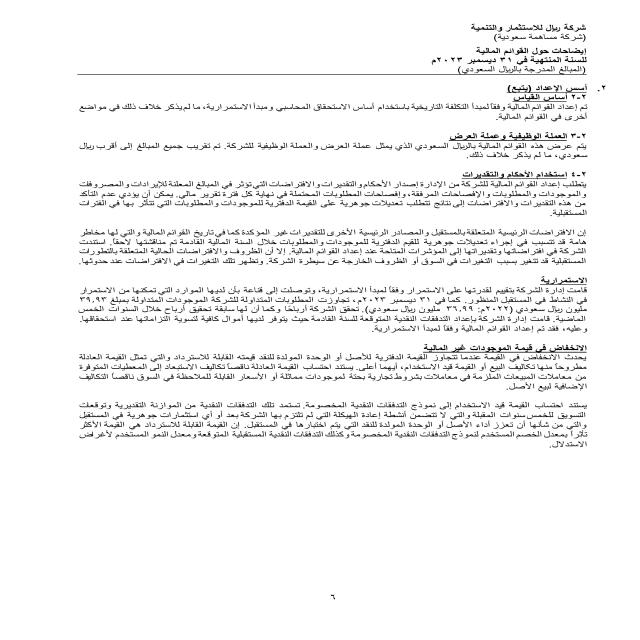notes: (466, 46, 591, 56)
text: (8, 84, 616, 491)
